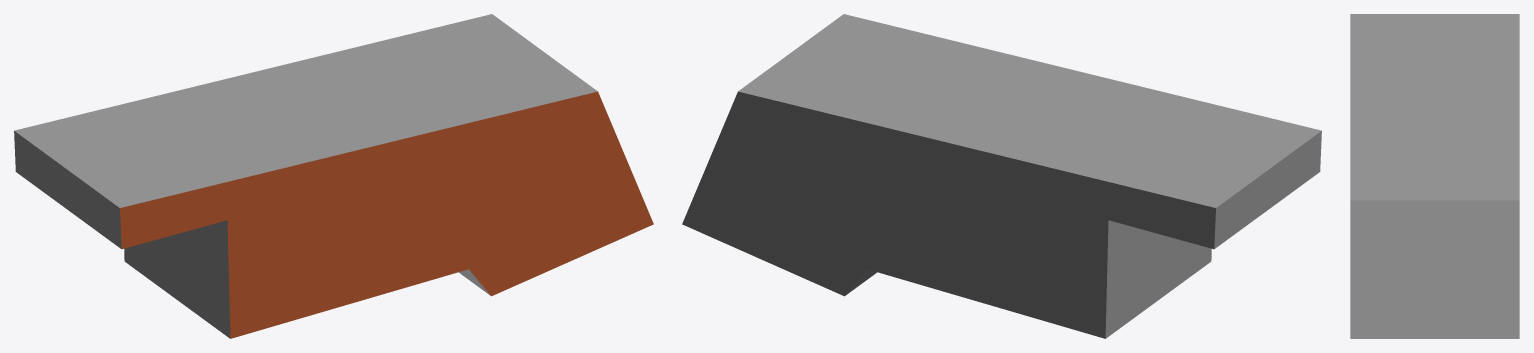
File: construction_4525_assumed_A_Casa_h6m.obj
3 renders of one model, left to right at view 1: azimuth 30°, elevation 25°; view 2: azimuth 150°, elevation 25°; view 3: azimuth 270°, elevation 25°, orthographic. The views are drawn at different scales.
Visible parts, largest first — view 1: construction_4525_assumed_A_Casa; view 2: construction_4525_assumed_A_Casa; view 3: construction_4525_assumed_A_Casa.
Boxes of the visible parts, left/top/right/bottom form: construction_4525_assumed_A_Casa: left=14, top=14, right=653, bottom=338; construction_4525_assumed_A_Casa: left=682, top=14, right=1321, bottom=338; construction_4525_assumed_A_Casa: left=1350, top=14, right=1519, bottom=338.
Bounding box in the file's own units: 17.47 × 5.59 × 6.
